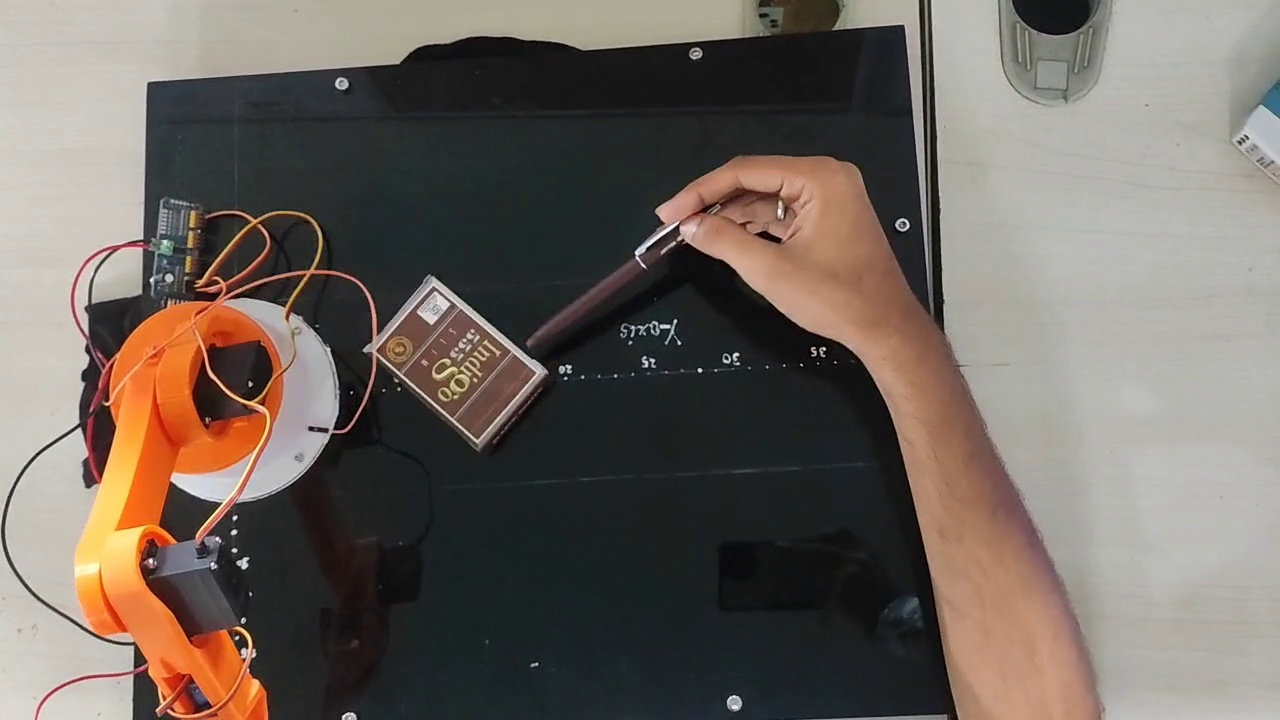BEX: (374, 284, 538, 442)
